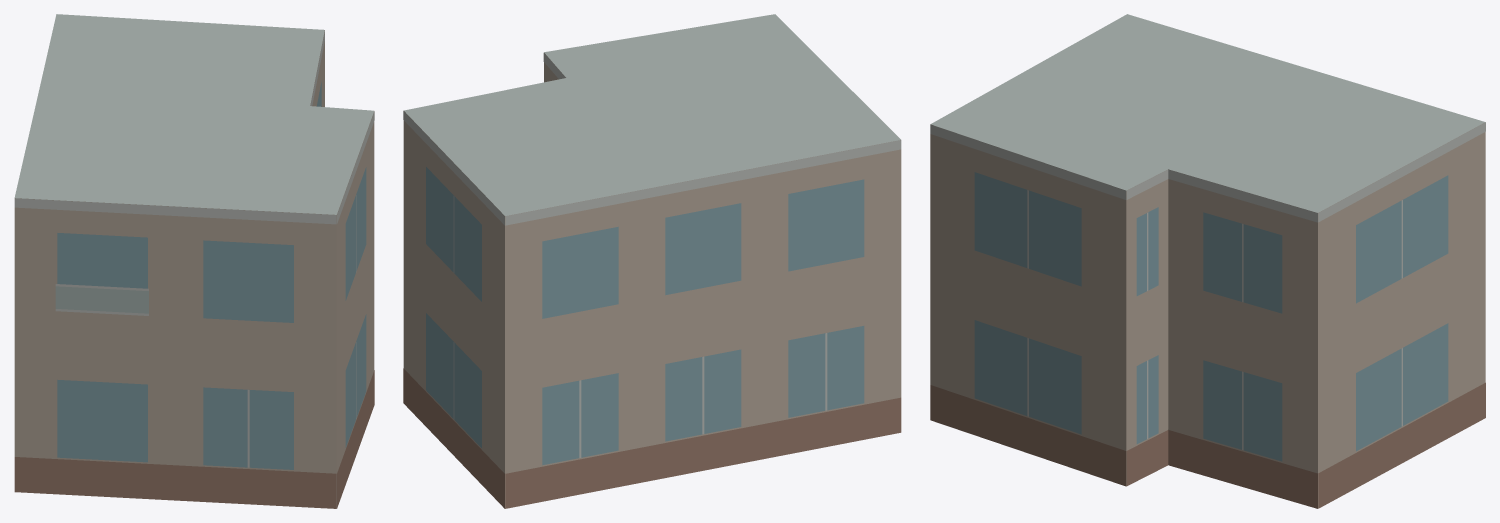
Rendered from survey-upis-32929500.glb.
3 views of the same model, side by side, from view 1: azimuth 30°, elevation 25°; view 2: azimuth 150°, elevation 25°; view 3: azimuth 270°, elevation 25° (orthographic).
Visible parts, largest first — view 1: survey-upis-32929500.tmp; view 2: survey-upis-32929500.tmp; view 3: survey-upis-32929500.tmp.
Part boxes in pixels (x1,y1,x2,y2): survey-upis-32929500.tmp: [14, 14, 374, 508]; survey-upis-32929500.tmp: [403, 14, 901, 508]; survey-upis-32929500.tmp: [930, 14, 1485, 508].
Bounding box in the file's own units: 10.83 × 7.5 × 12.77.
